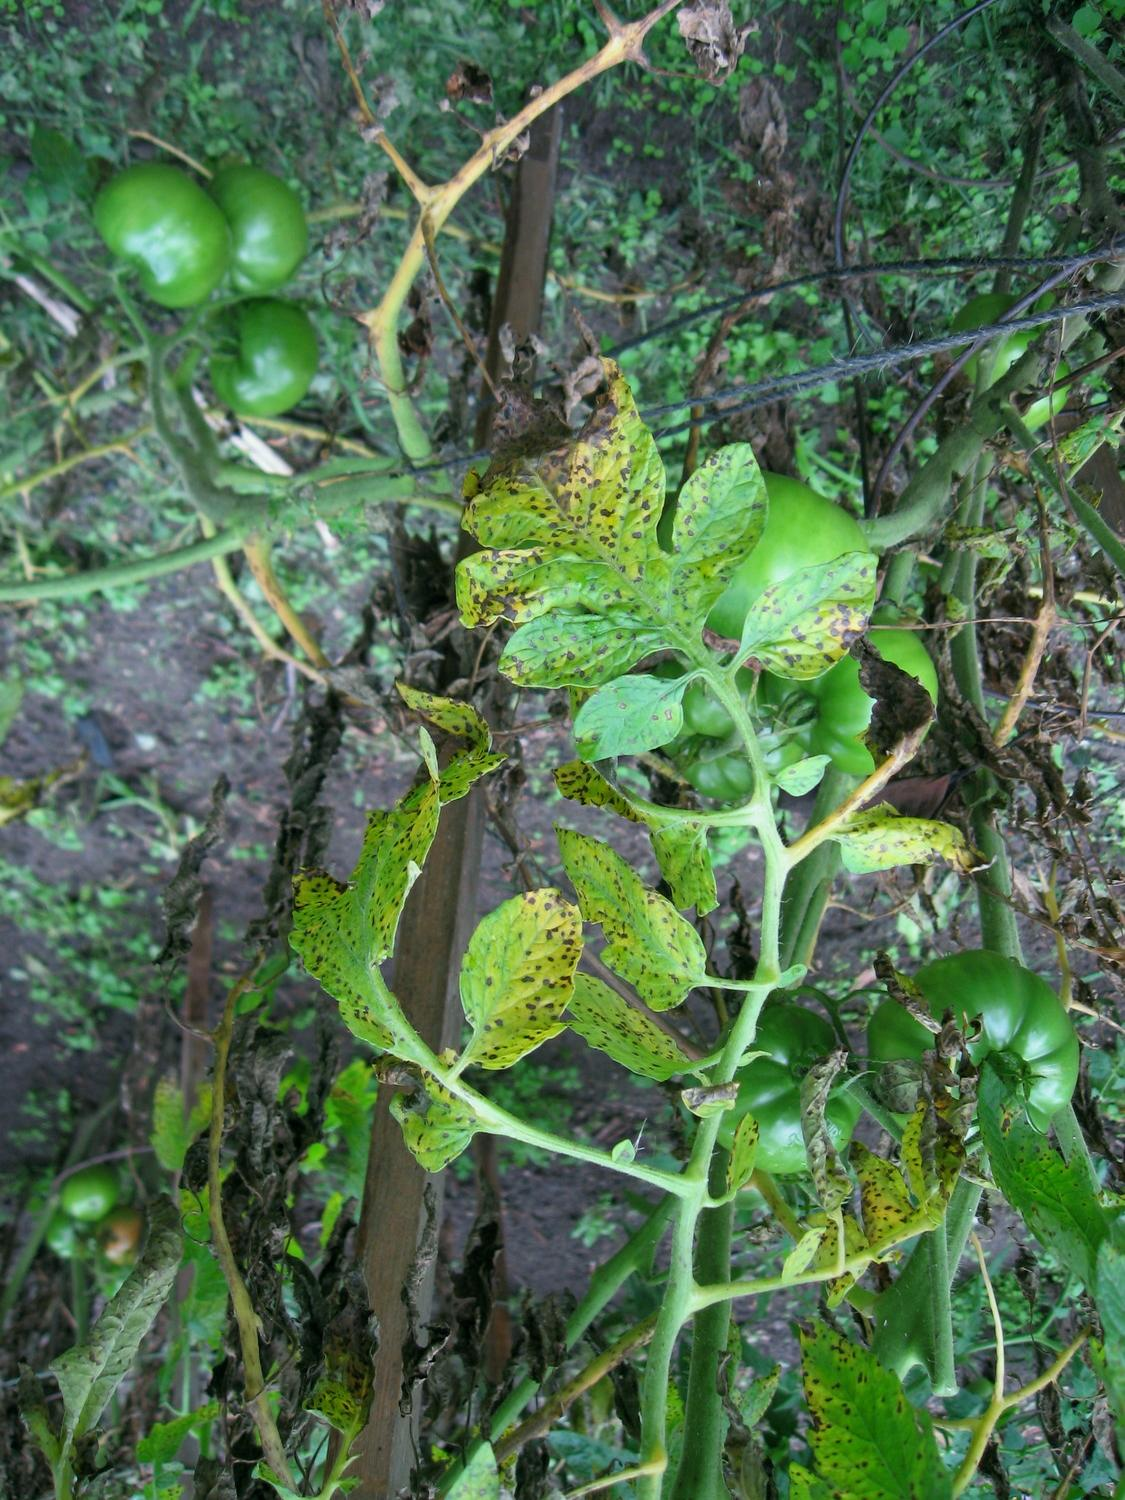Tomato Septoria leaf spot: (438, 369, 752, 712), (252, 726, 508, 1098), (550, 806, 724, 1019), (435, 885, 588, 1080), (739, 544, 898, 677), (815, 809, 999, 889)
